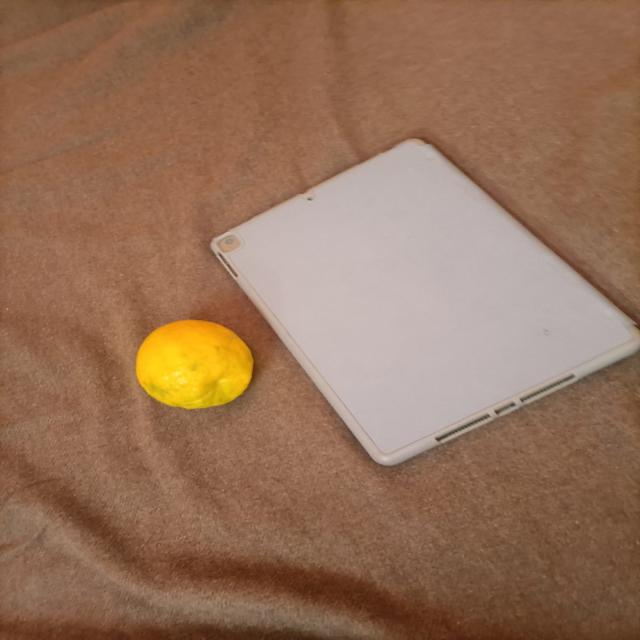orange: (115, 315, 274, 423)
tablet: (73, 60, 640, 499)
